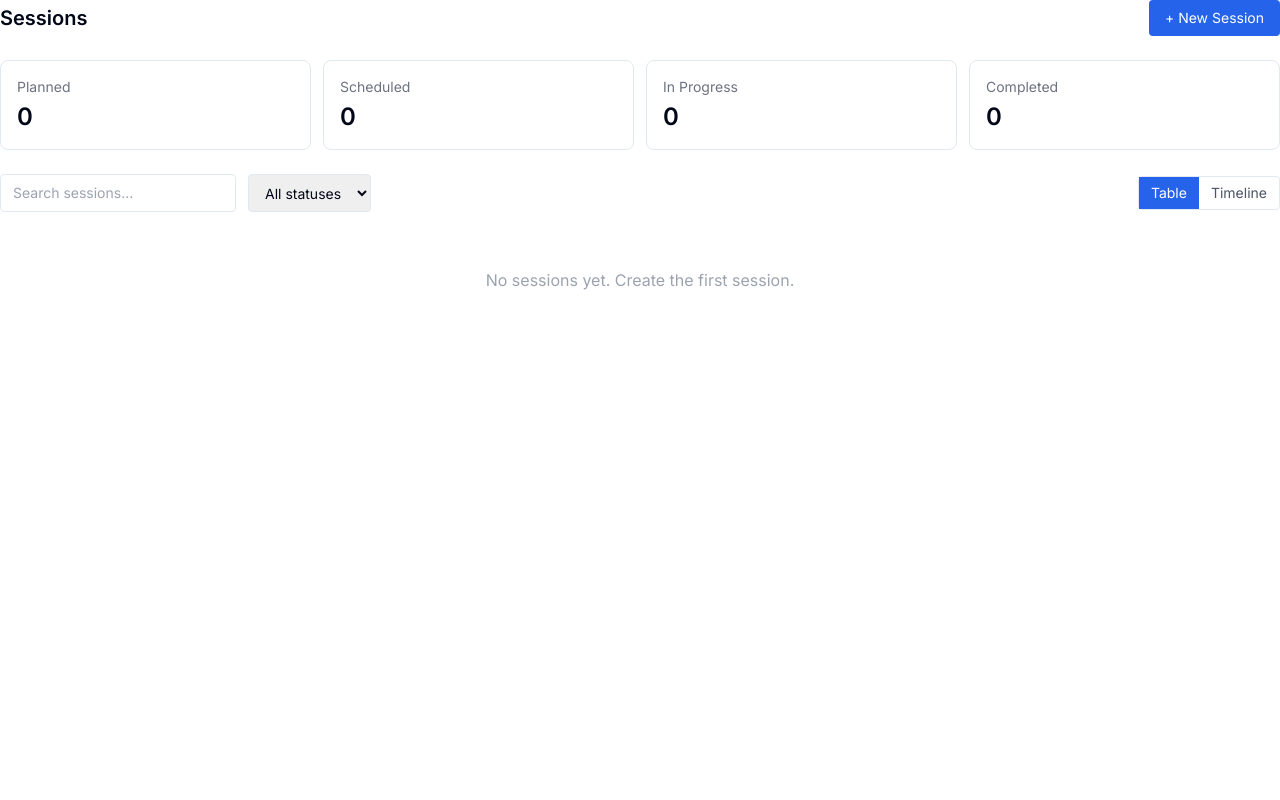
Test: TrainingSessionCenter › hides create dialog after cancel
What coordinates should you click on to do the following:
click the button with test id "btn-create-session"
I would click on:
 (1214, 18)
Its box is [1149,0,1279,36].
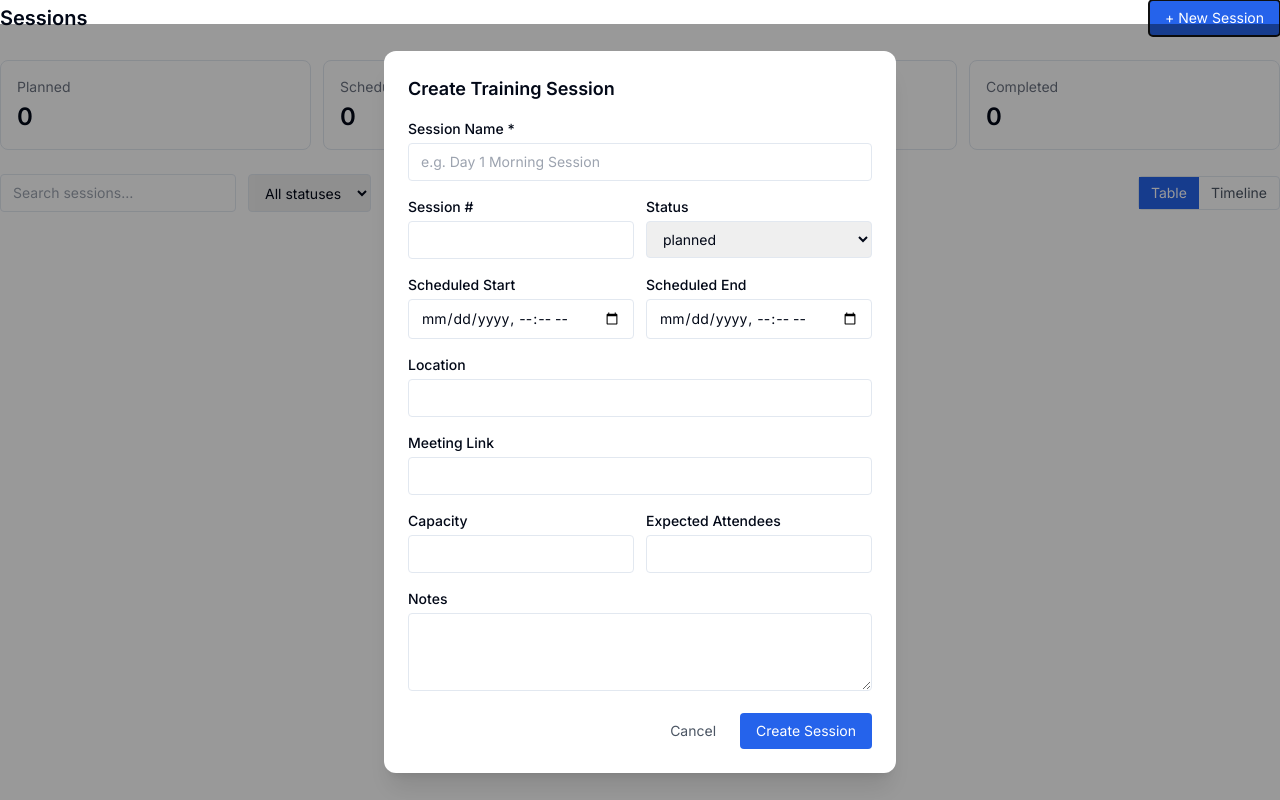
What coordinates should you click on to do the following:
click the button with test id "btn-cancel-create"
I would click on:
 (693, 731)
Its box is [654,713,732,749].
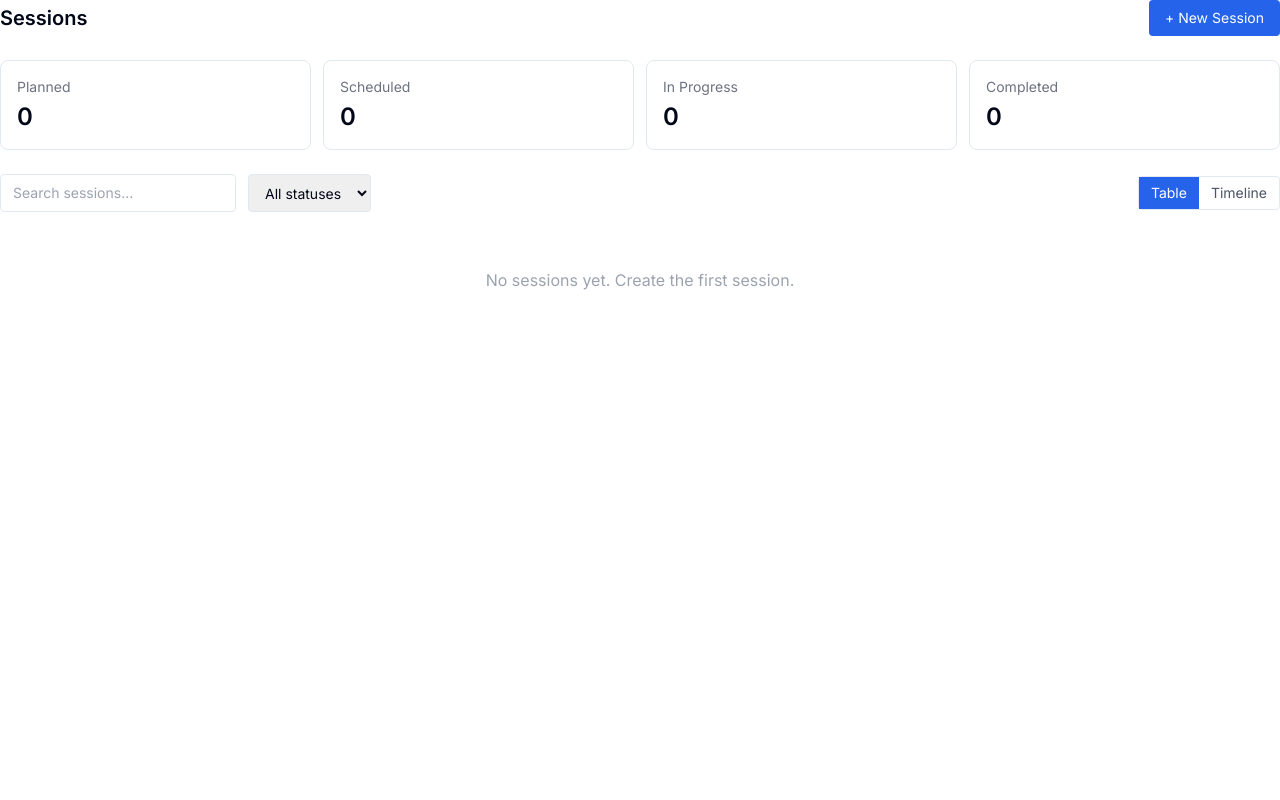
Expected: the element with test id "create-session-dialog" is gone
